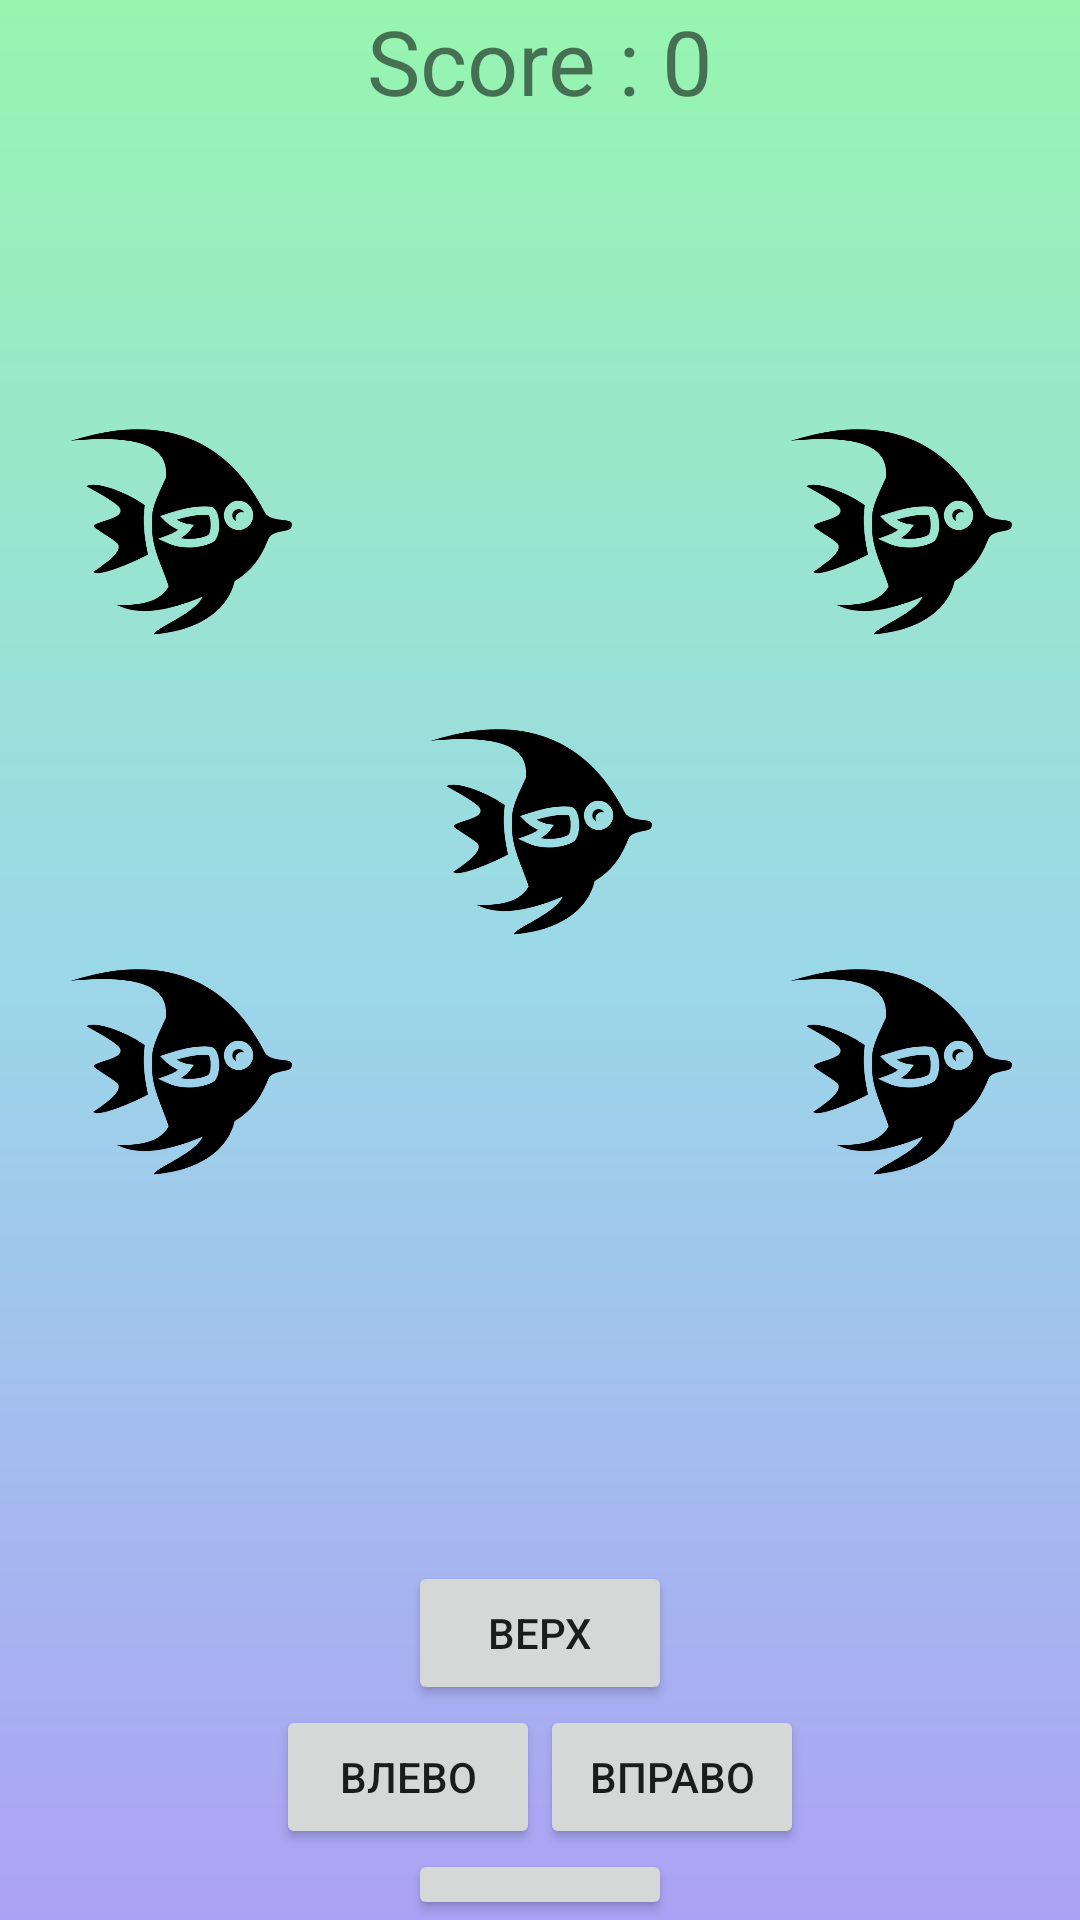

Point at icon controls on the screen. Image size 1080*1920, points as (x=x, y=y).
tropical fish: (x=181, y=532), (x=901, y=532), (x=541, y=832), (x=181, y=1072), (x=901, y=1072)
